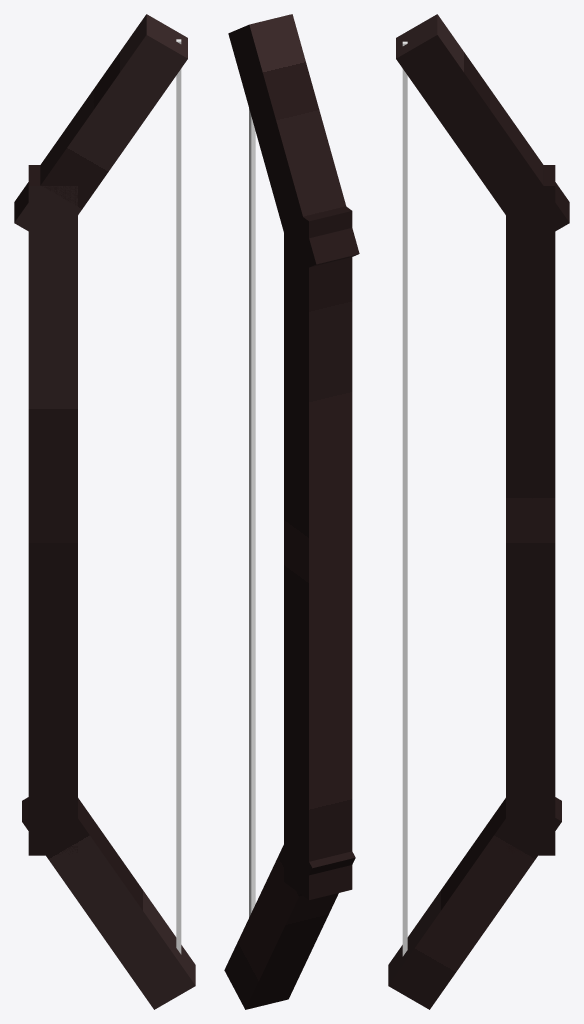
Rendered from arco.gltf.
3 renders of one model, left to right at view 1: azimuth 90°, elevation 25°; view 2: azimuth 210°, elevation 25°; view 3: azimuth 270°, elevation 25°, orthographic.
Parts seen in each view (by area): view 1: cube (×3), linha; view 2: cube (×3), linha; view 3: cube (×3), linha.
Part boxes in pixels (x1,y1,x2,y2): cube (×3): (14,14,195,1009); linha: (176,39,181,954); cube (×3): (224,14,359,1009); linha: (249,108,255,917); cube (×3): (388,14,569,1009); linha: (402,41,407,956).
Bounding box in the file's own units: 0.0625 × 1.36 × 0.2304.
Materials: 2 (1 with a texture image).
